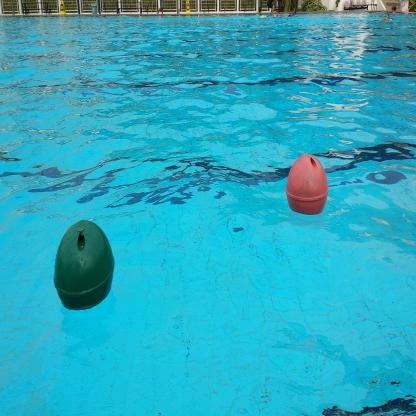green_buoy: (50, 217, 118, 319)
red_buoy: (284, 149, 332, 222)
